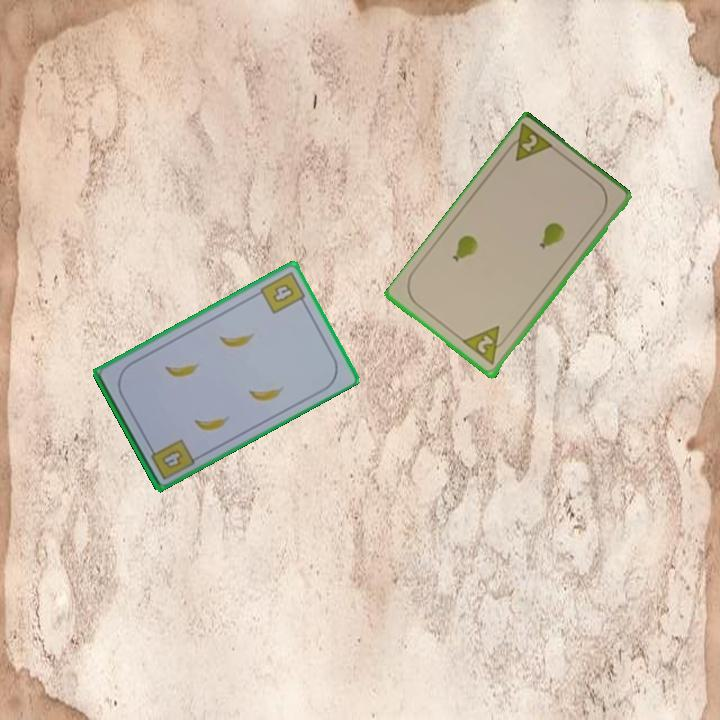2p: (501, 121, 558, 165), (460, 322, 513, 368)
4b: (256, 268, 310, 317), (145, 435, 197, 483)
